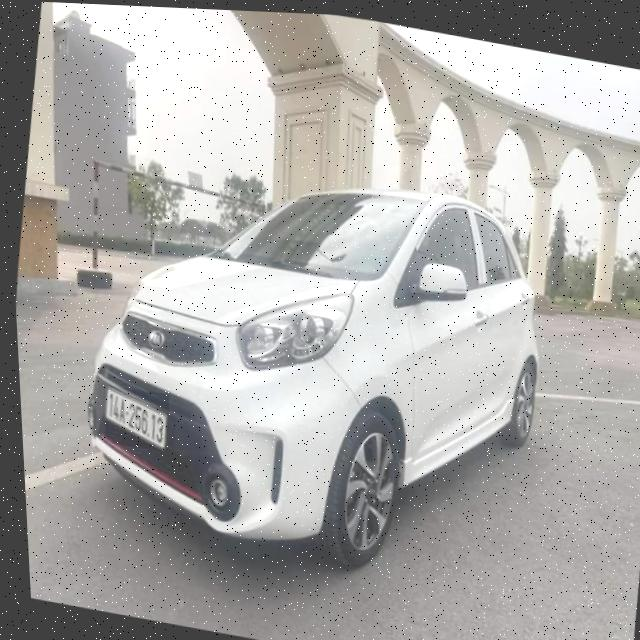car: (55, 133, 586, 619)
plate: (95, 384, 176, 452)
